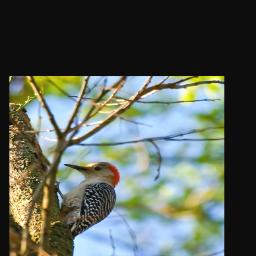Woodpecker: (47, 157, 136, 246)
